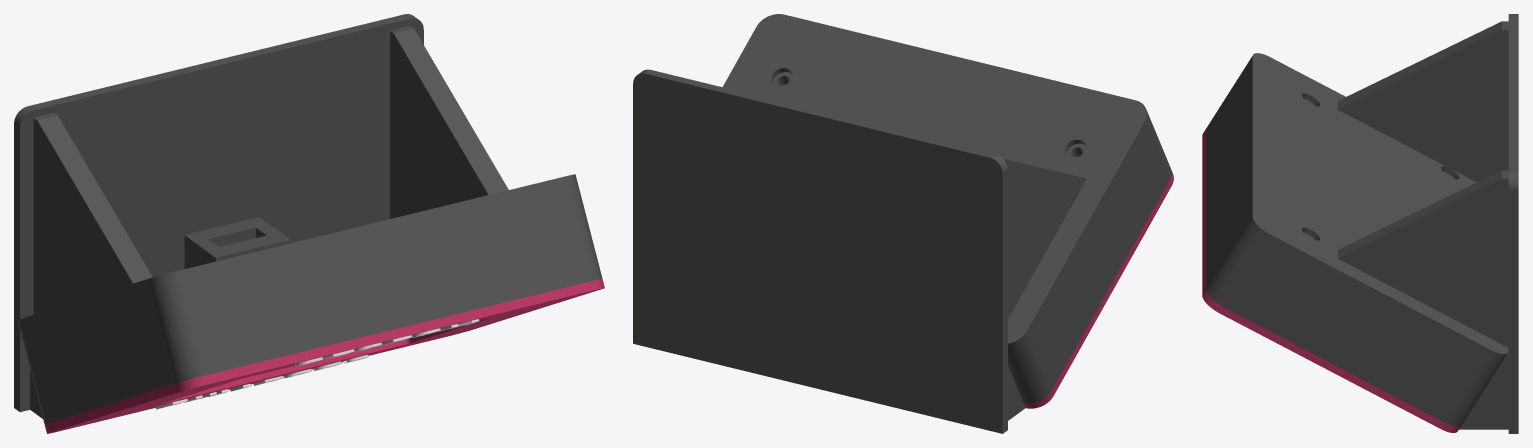
Rendered from case-assembly.glb.
3 renders of one model, left to right at view 1: azimuth 30°, elevation 25°; view 2: azimuth 150°, elevation 25°; view 3: azimuth 270°, elevation 25°, orthographic. The views are drawn at different scales.
Parts seen in each view (by area): view 1: black stand, black rear, red bezel, white lettering; view 2: black stand, black rear, red bezel; view 3: black rear, black stand, red bezel.
Part boxes in pixels (x1,y1,x2,y2): black stand: [14, 14, 508, 418]; black rear: [17, 174, 602, 424]; red bezel: [44, 279, 604, 433]; white lettering: [155, 319, 479, 409]; black stand: [633, 69, 1086, 433]; black rear: [723, 14, 1171, 403]; red bezel: [1023, 170, 1173, 408]; black rear: [1206, 53, 1508, 426]; black stand: [1337, 14, 1518, 433]; red bezel: [1202, 128, 1461, 432].
Bounding box in the file's own units: 125 × 84 × 94.21.
